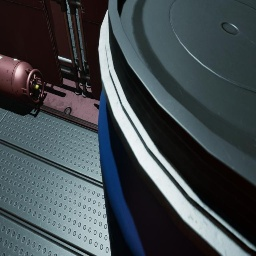NitrogenTank ,: (0, 54, 44, 104)
